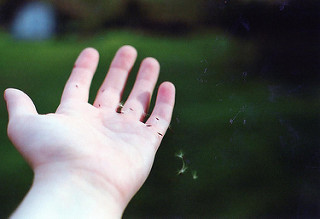palm: (48, 102, 147, 180)
